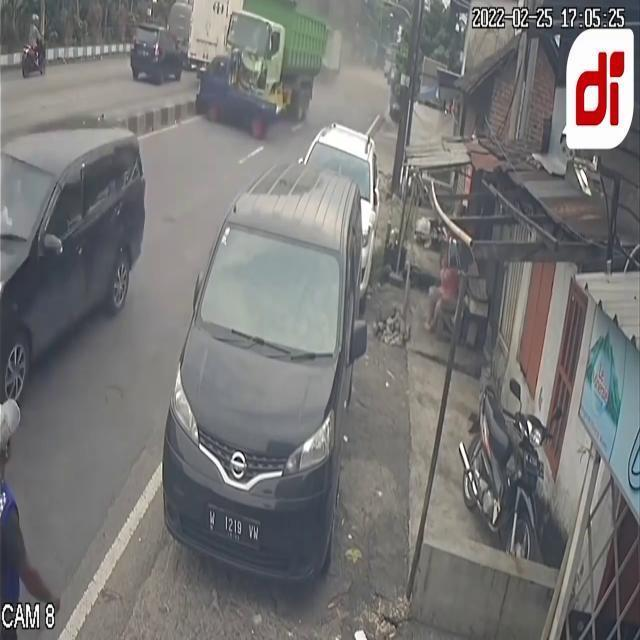accident: (194, 0, 328, 140)
non-accident: (161, 118, 381, 590)
